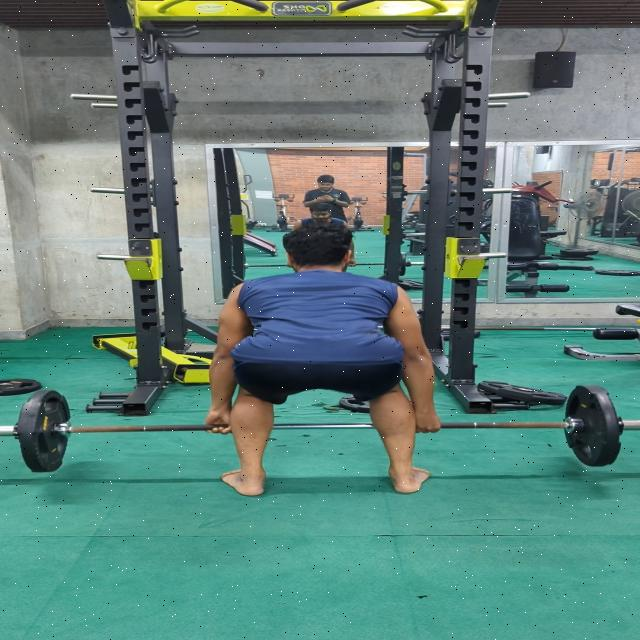Normal_Deadlifts: (205, 223, 444, 497)
